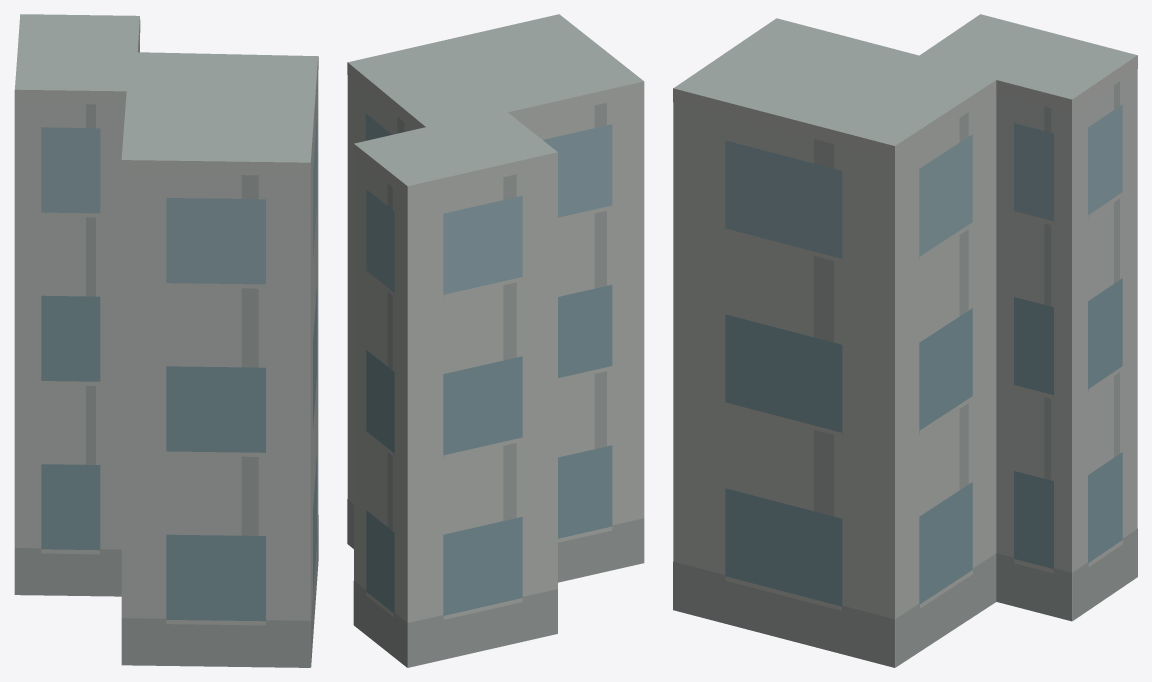
File: survey-upis-32821691.glb
The picture shows the model from 3 angles, left to right: view 1: azimuth 30°, elevation 25°; view 2: azimuth 150°, elevation 25°; view 3: azimuth 270°, elevation 25°; orthographic projection. The views are drawn at different scales.
Visible parts, largest first — view 1: survey-upis-32821691.tmp; view 2: survey-upis-32821691.tmp; view 3: survey-upis-32821691.tmp.
Boxes of the visible parts, x1,y1,x2,y2 form: survey-upis-32821691.tmp: [14, 14, 318, 667]; survey-upis-32821691.tmp: [347, 14, 644, 667]; survey-upis-32821691.tmp: [673, 14, 1137, 667].
Size of the model in its own units: 4.98 by 9.15 by 7.39.
